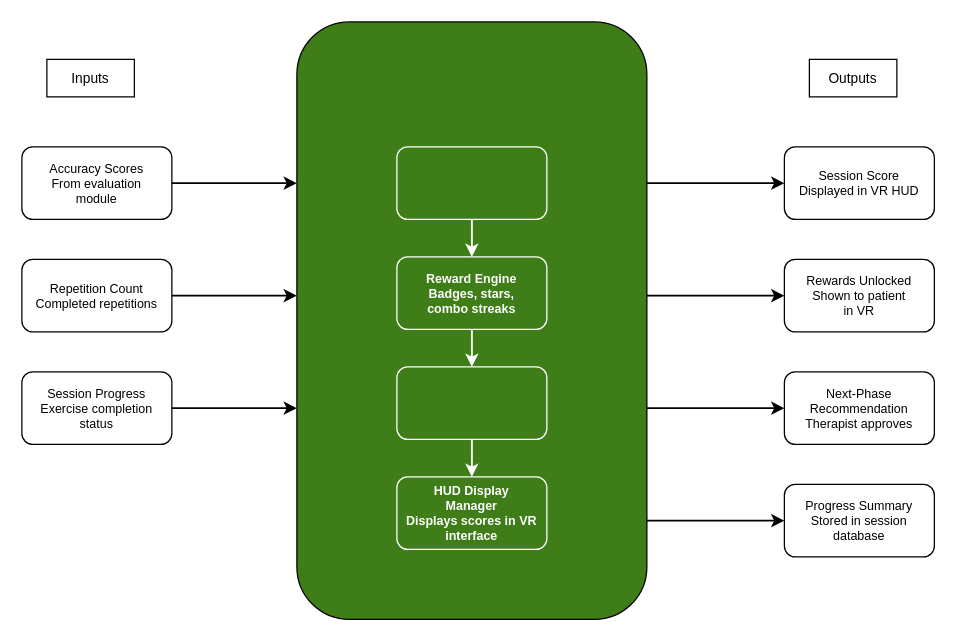
Image size: 956x641. Some labels were removed from this diagram. Here are the shapes that lost their labels. From the top down, the box of each, then its label:
(396, 146, 547, 219): Score Calculator Calculates points based on accuracy
(296, 21, 647, 619): Gamification Module C# - Unity Game Engine
(396, 366, 547, 439): Progression Controller XP, level, next-phase recommendation
